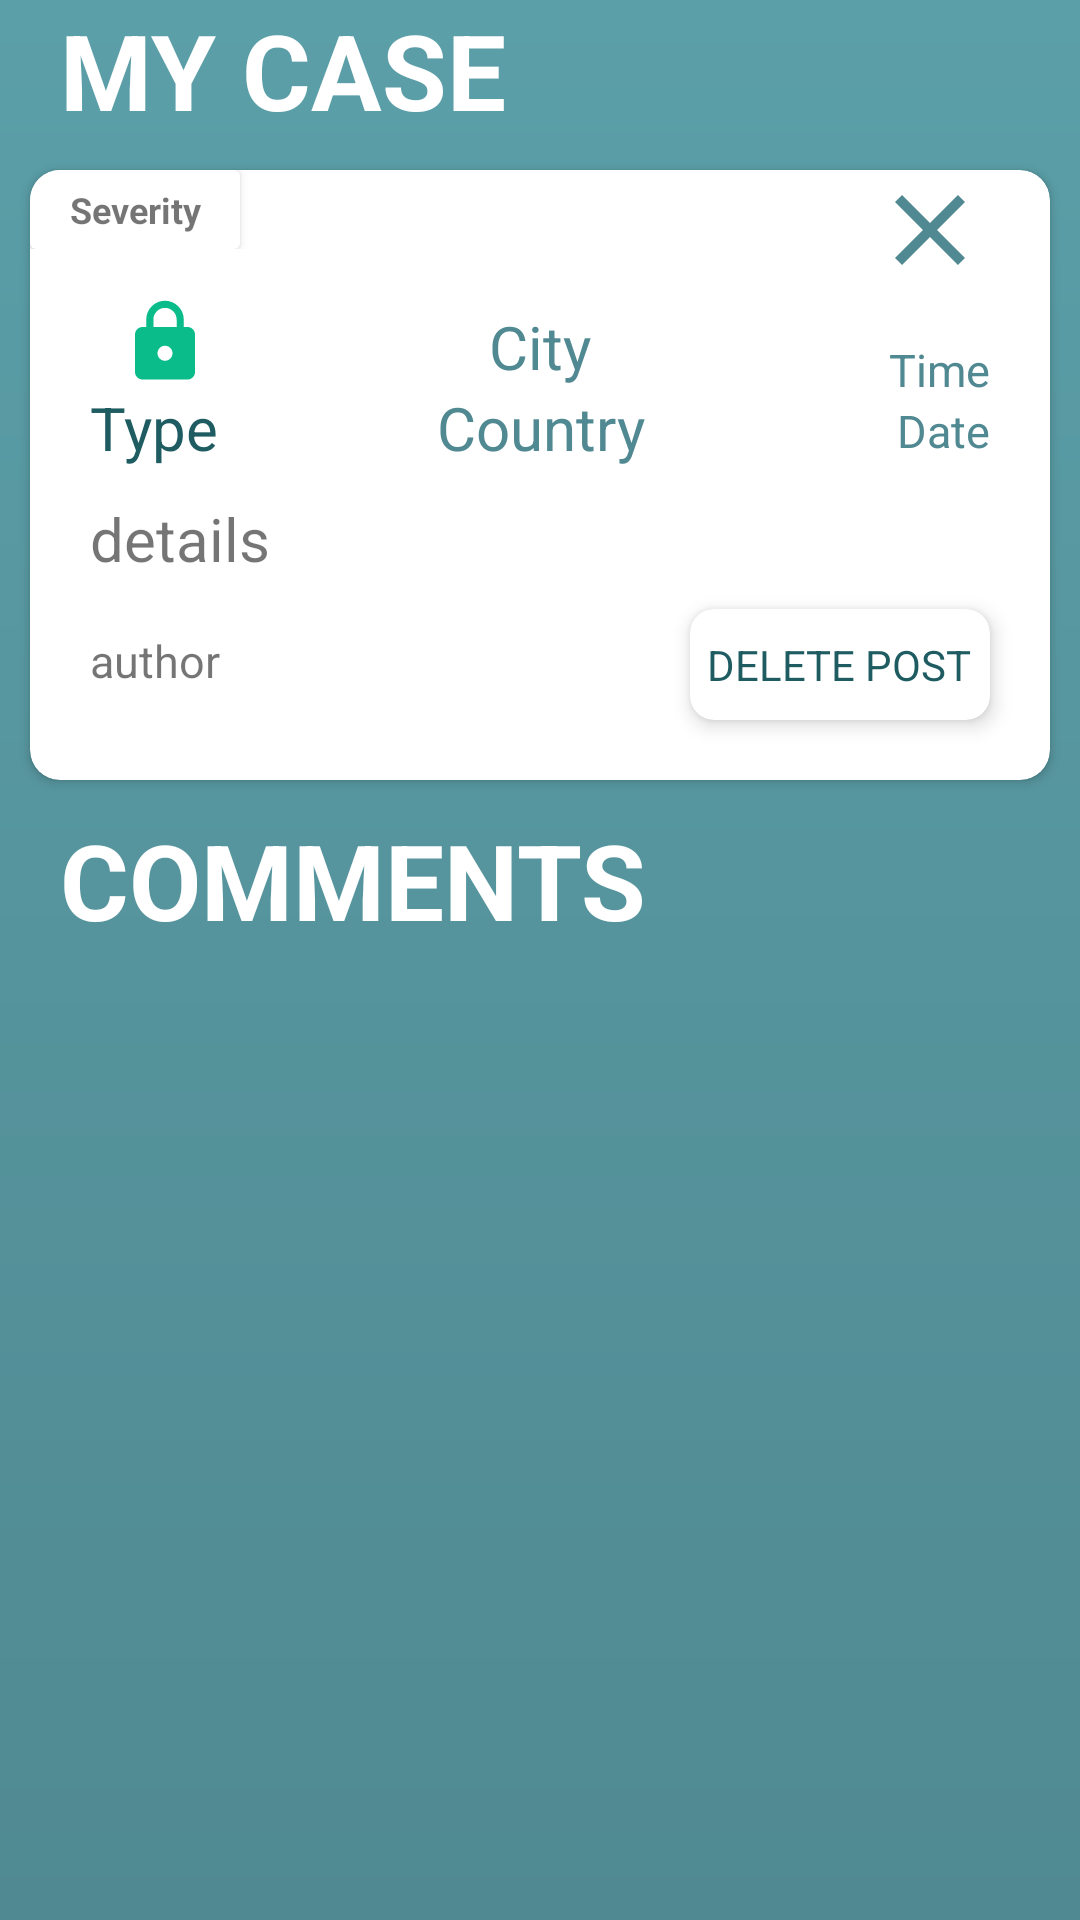

Icons on this 1080px x 1920px Android screen, each with the point to tap as point (x, y):
close: point (930, 230)
lock: point (165, 340)
